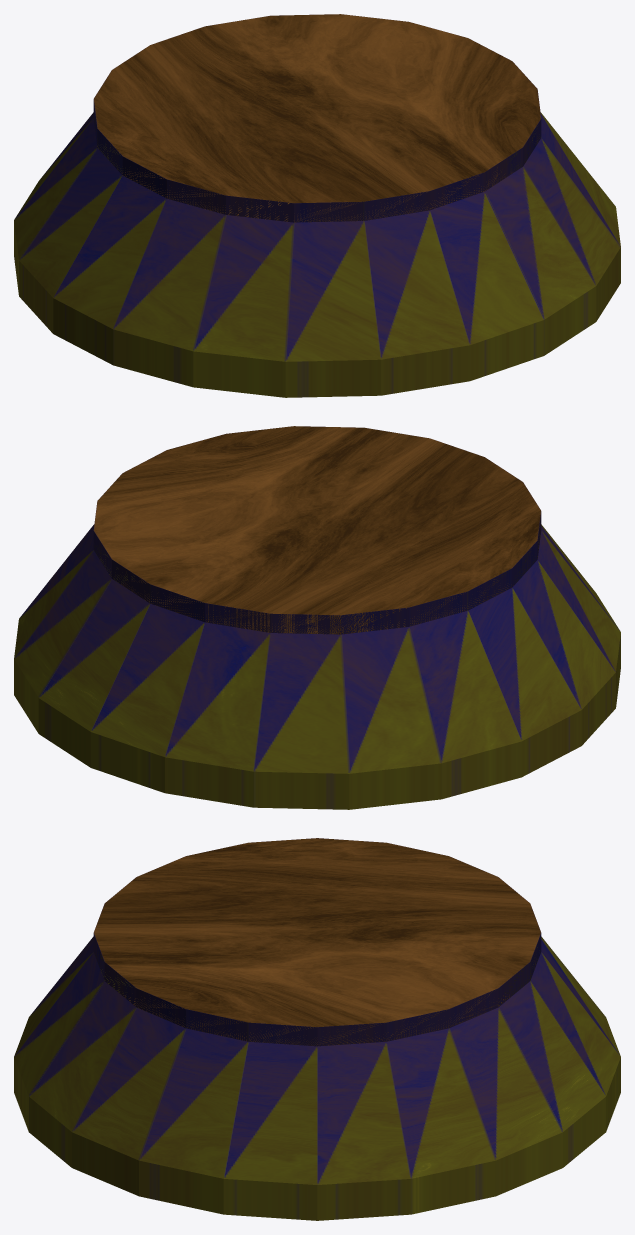
The model's file is podstavec.fbx.
3 renders of one model, top to bottom at view 1: azimuth 30°, elevation 25°; view 2: azimuth 150°, elevation 25°; view 3: azimuth 270°, elevation 25°, orthographic.
Visible parts, largest first — view 1: Cylinder.004; view 2: Cylinder.004; view 3: Cylinder.004.
Part boxes in pixels (left/top/right/bottom): Cylinder.004: left=14, top=14, right=620, bottom=397; Cylinder.004: left=14, top=426, right=620, bottom=809; Cylinder.004: left=14, top=838, right=620, bottom=1220.
Bounding box in the file's own units: 468 × 136 × 468.
Materials: 1 (1 with a texture image).
